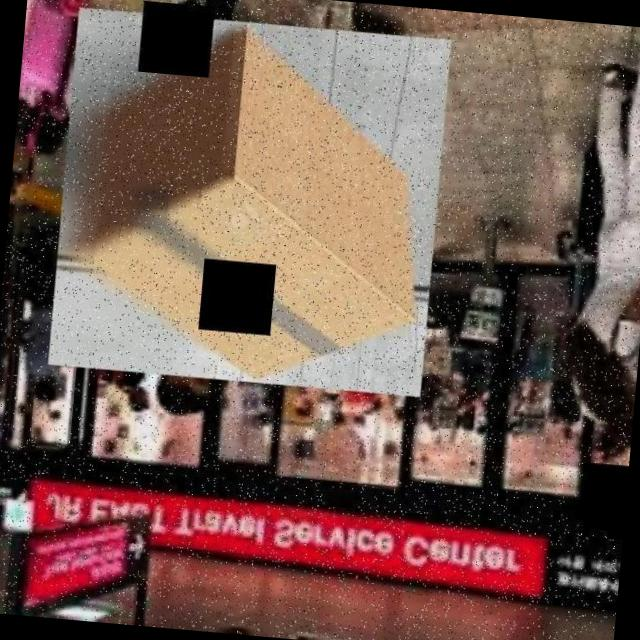box: (42, 1, 458, 402)
